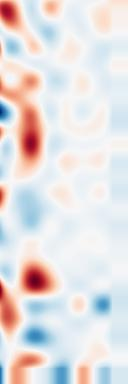filament: (0, 69, 53, 168)
